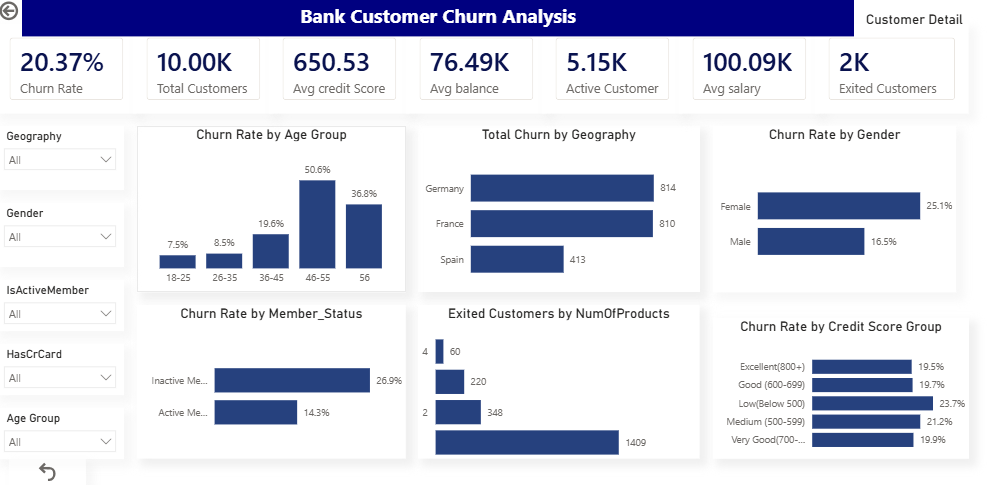

The dashboard page shown, as its layout file describes it:
{"tool":"powerbi","page":{"name":"Churn_modeling","canvas":[1280,720],"ordinal":0},"visuals":[{"type":"cardVisual","fields":{"Data":["Churn_Modelling.Churn Rate"]},"box":[0,32,176,112],"z":0},{"type":"columnChart","fields":{"Category":["Churn_Modelling.Age Group"],"Y":["Churn_Modelling.Churn Rate"]},"box":[176,160,336,208],"z":1000},{"type":"cardVisual","fields":{"Data":["Churn_Modelling.Total Customers"]},"box":[170.7,32,176,112],"z":2000},{"type":"cardVisual","fields":{"Data":["Churn_Modelling.Avg credit Score"]},"box":[341.3,32,176,112],"z":3000},{"type":"cardVisual","fields":{"Data":["Churn_Modelling.Avg balance"]},"box":[512,32,176,112],"z":4000},{"type":"cardVisual","fields":{"Data":["Churn_Modelling.Active Member"]},"box":[682.7,32,176,112],"z":5000},{"type":"cardVisual","fields":{"Data":["Churn_Modelling.Avg salary"]},"box":[853.3,32,176,112],"z":6000},{"type":"barChart","fields":{"Category":["Churn_Modelling.Geography"],"Y":["Churn_Modelling.Total Churn"]},"box":[528,160,352,208],"z":7000},{"type":"slicer","fields":{"Values":["Churn_Modelling.Geography"]},"box":[0,160,160,80],"z":8000},{"type":"slicer","fields":{"Values":["Churn_Modelling.Gender"]},"box":[0,256,160,80],"z":9000},{"type":"slicer","fields":{"Values":["Churn_Modelling.IsActiveMember"]},"box":[0,352,160,64],"z":10000},{"type":"slicer","fields":{"Values":["Churn_Modelling.HasCrCard"]},"box":[0,432,160,64],"z":11000},{"type":"slicer","fields":{"Values":["Churn_Modelling.Age Group"]},"box":[0,512,160,64],"z":12000},{"type":"cardVisual","fields":{"Data":["Churn_Modelling.Exited Customer"]},"box":[1024,32,192,112],"z":13000},{"type":"actionButton","box":[0,0,48,32],"z":14000},{"type":"actionButton","title":"Reset","box":[16,576,96,32],"z":15000},{"type":"textbox","box":[32,0,1040,48],"z":16000},{"type":"textbox","box":[1047,570,153,150],"z":17000},{"type":"textbox","box":[1047,570,153,150],"z":18000},{"type":"barChart","fields":{"Category":["Churn_Modelling.Gender"],"Y":["Churn_Modelling.Churn Rate"]},"box":[896,160,304,208],"z":19000},{"type":"barChart","fields":{"Y":["Churn_Modelling.Churn Rate"],"Category":["Churn_Modelling.Member_Status"]},"box":[176,384,336,192],"z":20000},{"type":"clusteredBarChart","fields":{"Category":["Churn_Modelling.NumOfProducts"],"Y":["Churn_Modelling.Exited Customers"]},"box":[528,384,352,192],"z":21000},{"type":"barChart","fields":{"Category":["Churn_Modelling.Credit Score Group"],"Y":["Churn_Modelling.Churn Rate"]},"box":[896,400,320,176],"z":22000},{"type":"actionButton","title":"Customer Detail ","box":[1088,0,128,32],"z":23000}]}

Visuals, with their boxes on the page's 1280x720 design canvas (x1, y1, x2, y2). These are canvas units, not pixel positions in the 989x485 screenshot, which may show the page scaled, cropped or inside an application window:
cardVisual - Churn_Modelling.Churn Rate: select_region(0, 32, 176, 144)
columnChart - Churn_Modelling.Age Group x Churn_Modelling.Churn Rate: select_region(176, 160, 512, 368)
cardVisual - Churn_Modelling.Total Customers: select_region(171, 32, 347, 144)
cardVisual - Churn_Modelling.Avg credit Score: select_region(341, 32, 517, 144)
cardVisual - Churn_Modelling.Avg balance: select_region(512, 32, 688, 144)
cardVisual - Churn_Modelling.Active Member: select_region(683, 32, 859, 144)
cardVisual - Churn_Modelling.Avg salary: select_region(853, 32, 1029, 144)
barChart - Churn_Modelling.Geography x Churn_Modelling.Total Churn: select_region(528, 160, 880, 368)
slicer - Churn_Modelling.Geography: select_region(0, 160, 160, 240)
slicer - Churn_Modelling.Gender: select_region(0, 256, 160, 336)
slicer - Churn_Modelling.IsActiveMember: select_region(0, 352, 160, 416)
slicer - Churn_Modelling.HasCrCard: select_region(0, 432, 160, 496)
slicer - Churn_Modelling.Age Group: select_region(0, 512, 160, 576)
cardVisual - Churn_Modelling.Exited Customer: select_region(1024, 32, 1216, 144)
actionButton: select_region(0, 0, 48, 32)
"Reset" actionButton: select_region(16, 576, 112, 608)
textbox: select_region(32, 0, 1072, 48)
textbox: select_region(1047, 570, 1200, 720)
textbox: select_region(1047, 570, 1200, 720)
barChart - Churn_Modelling.Gender x Churn_Modelling.Churn Rate: select_region(896, 160, 1200, 368)
barChart - Churn_Modelling.Churn Rate x Churn_Modelling.Member_Status: select_region(176, 384, 512, 576)
clusteredBarChart - Churn_Modelling.NumOfProducts x Churn_Modelling.Exited Customers: select_region(528, 384, 880, 576)
barChart - Churn_Modelling.Credit Score Group x Churn_Modelling.Churn Rate: select_region(896, 400, 1216, 576)
"Customer Detail " actionButton: select_region(1088, 0, 1216, 32)
